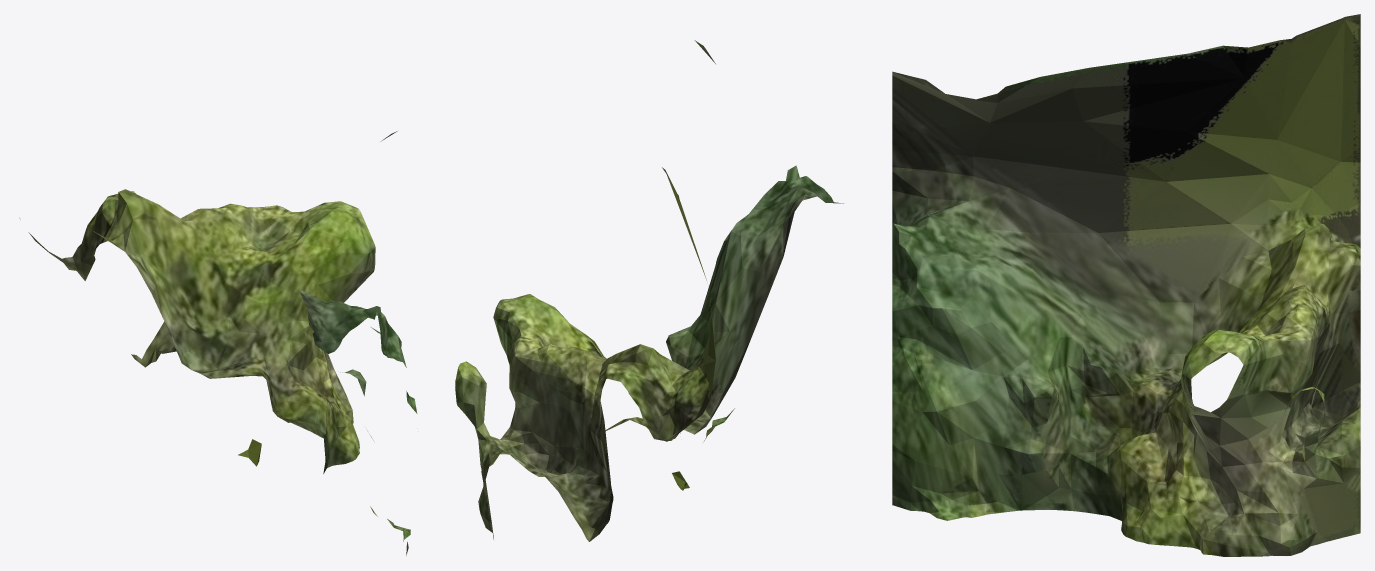
The picture shows the model from 3 angles, left to right: view 1: azimuth 30°, elevation 25°; view 2: azimuth 150°, elevation 25°; view 3: azimuth 270°, elevation 25°; orthographic projection. The views are drawn at different scales.
Bounding box in the file's own units: 4.21 × 5.9 × 5.9.
Materials: 4 (4 with a texture image).
